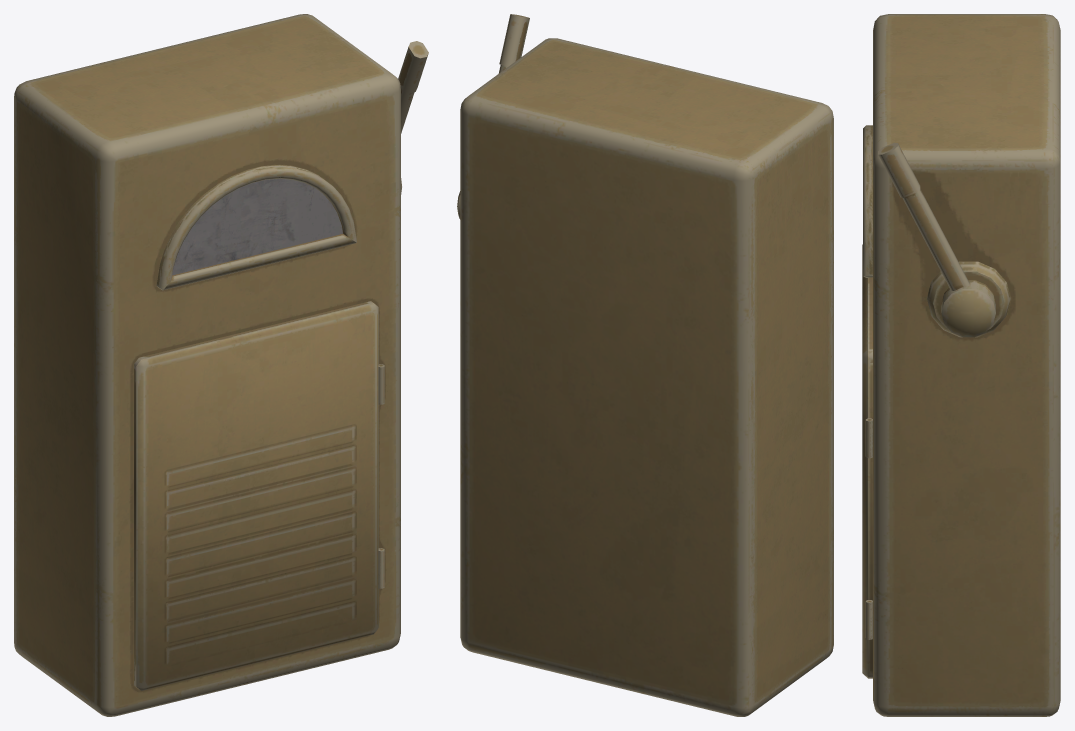
File: SM_electric_props_01.glb
3 views of the same model, side by side, from view 1: azimuth 30°, elevation 25°; view 2: azimuth 150°, elevation 25°; view 3: azimuth 270°, elevation 25° (orthographic). The views are drawn at different scales.
Visible parts, largest first — view 1: SM_electric_props_01; view 2: SM_electric_props_01; view 3: SM_electric_props_01.
Boxes of the visible parts, x1=… form: SM_electric_props_01: x1=14, y1=14, x2=428, y2=716; SM_electric_props_01: x1=457, y1=14, x2=833, y2=716; SM_electric_props_01: x1=862, y1=14, x2=1060, y2=716.
Bounding box in the file's own units: 1.24 × 2.07 × 0.6343.
Materials: 1 (1 with a texture image).
